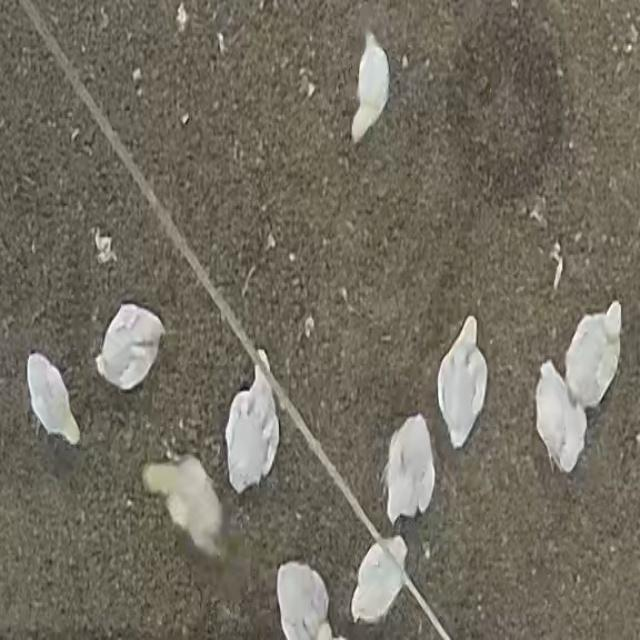chicken: (137, 453, 232, 563), (223, 356, 281, 496), (90, 296, 168, 398), (435, 311, 489, 448), (529, 360, 589, 481), (562, 302, 620, 411), (382, 414, 436, 526), (24, 349, 82, 450), (345, 29, 394, 148), (350, 535, 411, 625)
